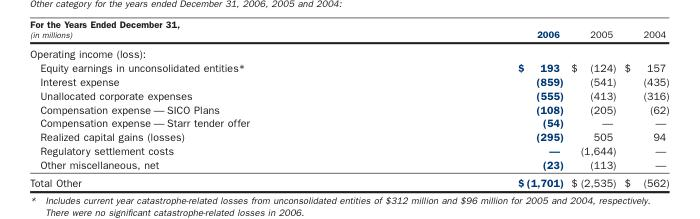table: (29, 28, 668, 188)
table column: (29, 28, 383, 188), (383, 28, 566, 188), (566, 28, 619, 188), (619, 28, 668, 188)
table column header: (29, 28, 668, 43)
table projected row header: (29, 43, 668, 59)
table row: (29, 43, 668, 59), (29, 157, 668, 173), (29, 28, 668, 43), (29, 173, 668, 188), (29, 59, 668, 73), (29, 73, 668, 87), (29, 87, 668, 101), (29, 101, 668, 115), (29, 115, 668, 129), (29, 129, 668, 143), (29, 143, 668, 157)
